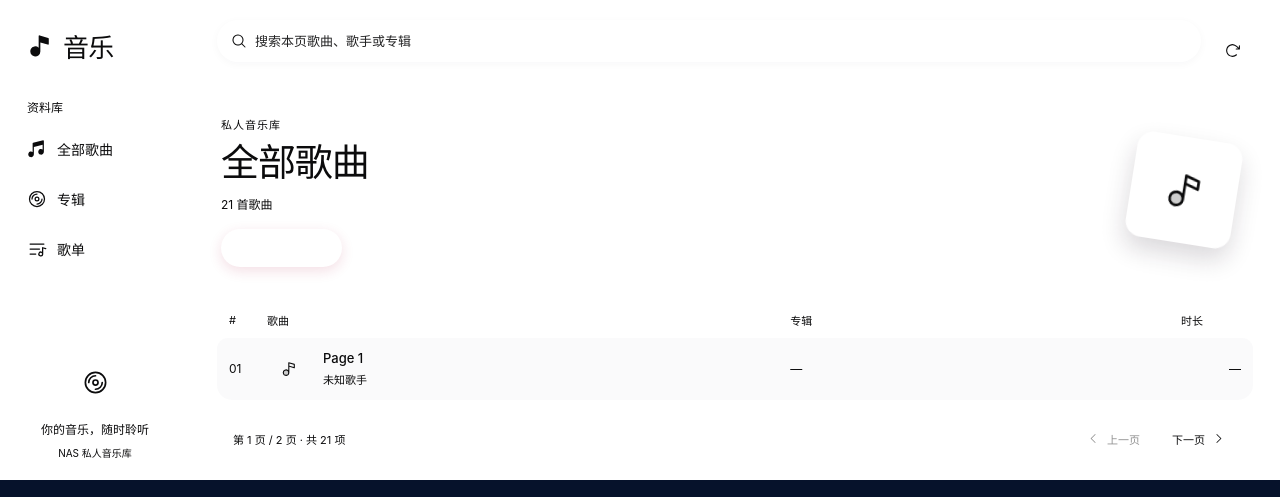
it: paginates music using server total and real page requests
expect the text "Page 1" is shown: met, box [323,350,367,366]
Click the button "下一页". click: (1198, 439)
box: [1160,422,1237,456]
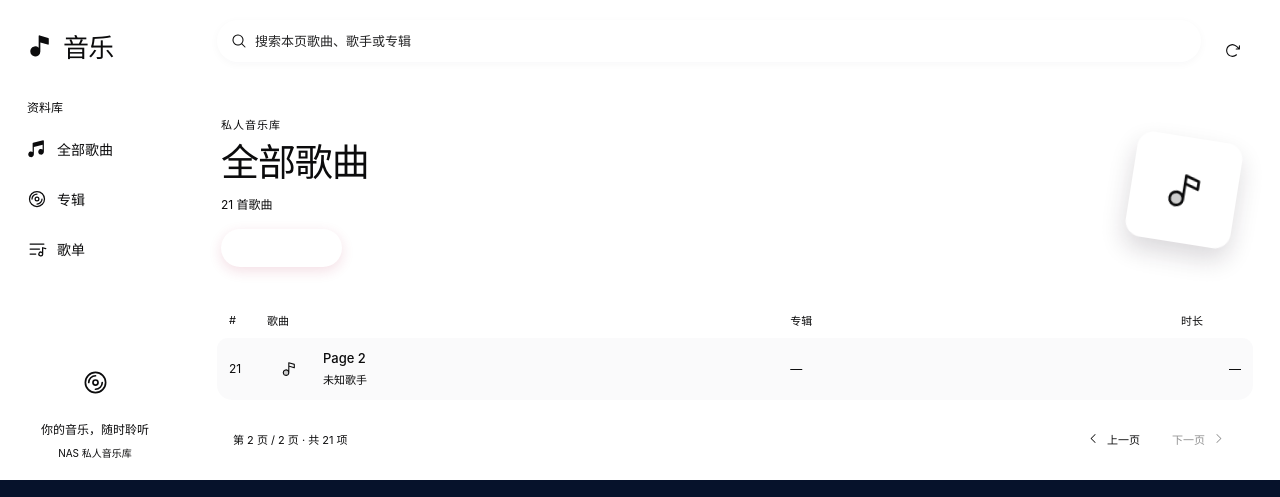
expect the text "第 2 页 / 2 页 · 共 21 项" is shown: met, box [233,431,348,447]
expect the text "Page 2" is shown: met, box [323,350,367,366]
expect the button "下一页" is disabled: met, box [1160,422,1237,456]
